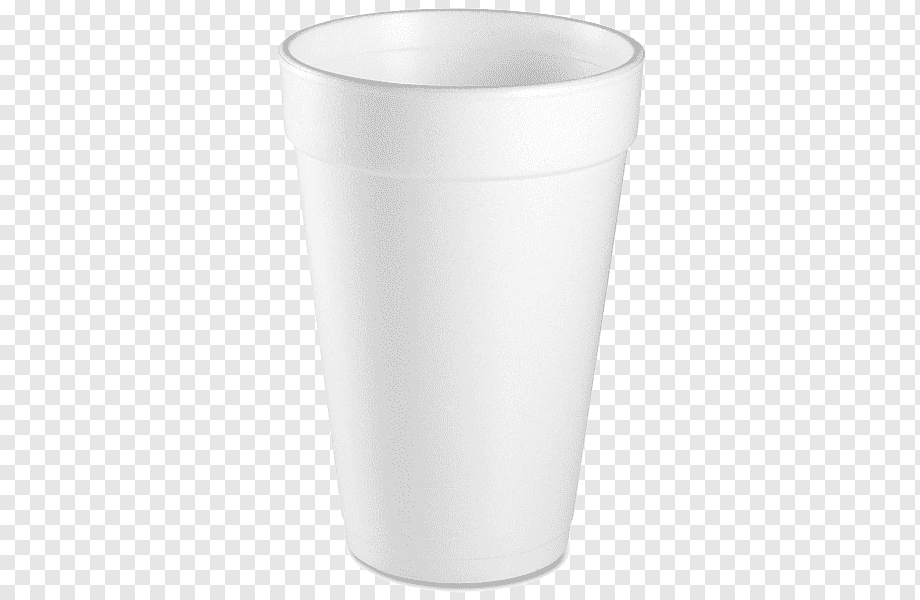plastic_glass: (276, 4, 649, 592)
